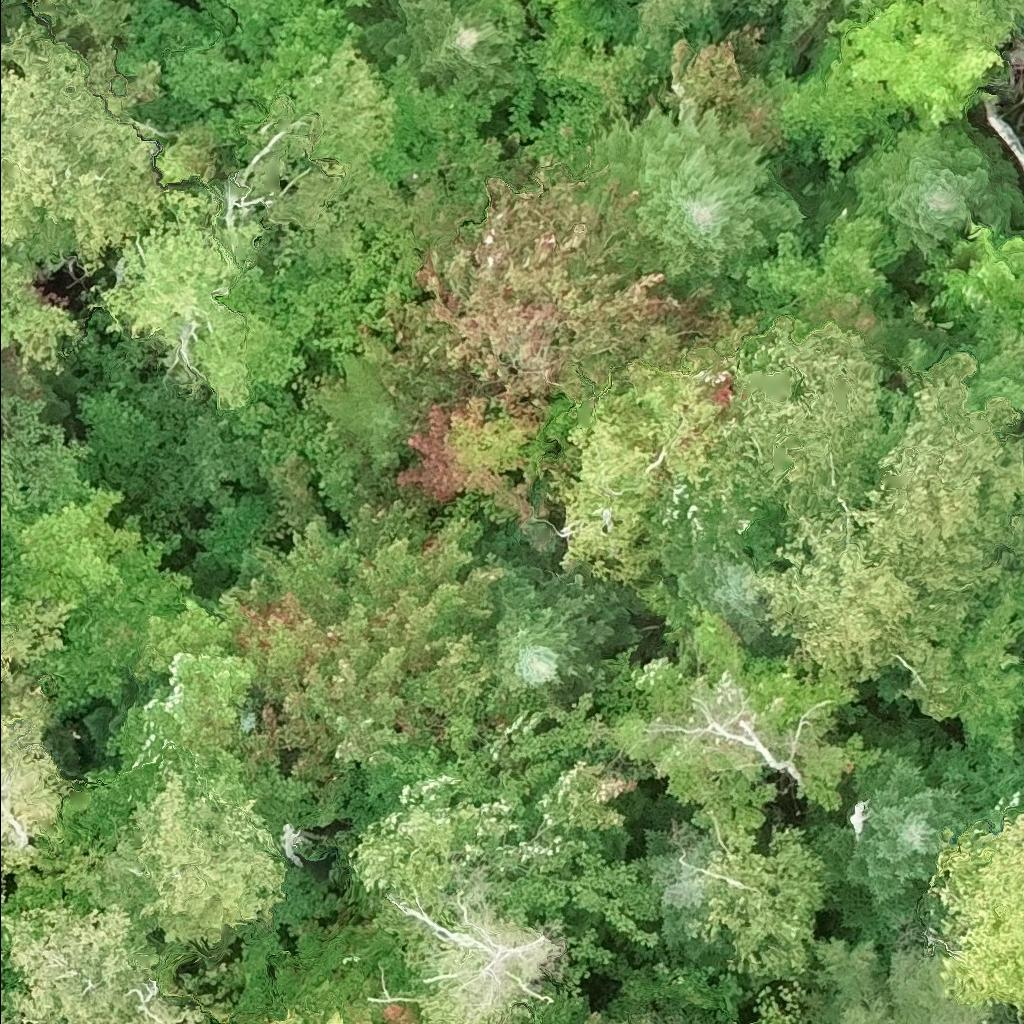crown: (749, 348, 1023, 715), (399, 164, 732, 423), (225, 485, 517, 779), (583, 98, 805, 300), (104, 191, 312, 406), (0, 13, 166, 273), (98, 754, 289, 949), (807, 729, 984, 937), (0, 872, 208, 1023), (735, 310, 888, 514), (839, 113, 1015, 277), (824, 0, 1023, 127), (681, 815, 827, 983), (554, 400, 679, 594), (486, 558, 639, 716), (751, 39, 906, 183), (920, 805, 1023, 1018), (0, 484, 146, 624), (812, 924, 1003, 1023), (664, 521, 794, 652), (391, 393, 530, 514), (313, 349, 427, 472), (364, 0, 521, 87), (948, 591, 1023, 754), (932, 221, 1023, 340), (638, 815, 709, 959), (0, 688, 72, 830), (0, 252, 79, 375), (524, 0, 616, 54), (746, 0, 835, 32), (0, 621, 37, 685), (978, 577, 1023, 620), (264, 1007, 344, 1023), (834, 0, 862, 22), (1017, 725, 1023, 784), (0, 814, 9, 851), (715, 0, 741, 10), (517, 501, 518, 508), (517, 508, 518, 513), (517, 513, 517, 513)
